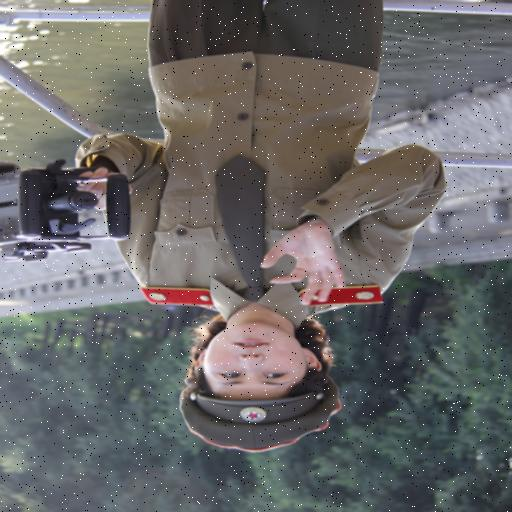north army: (51, 1, 426, 447)
